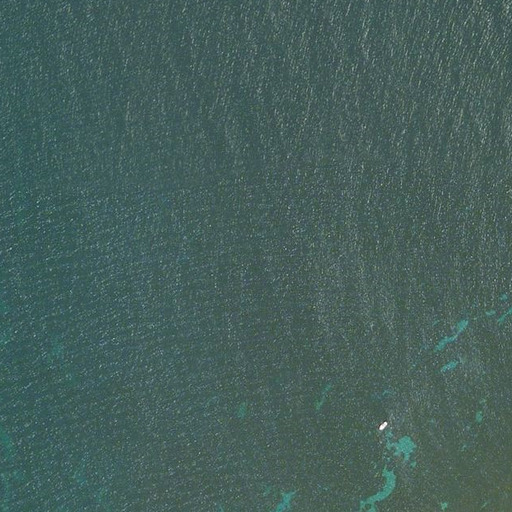ship: (378, 421, 388, 432)
